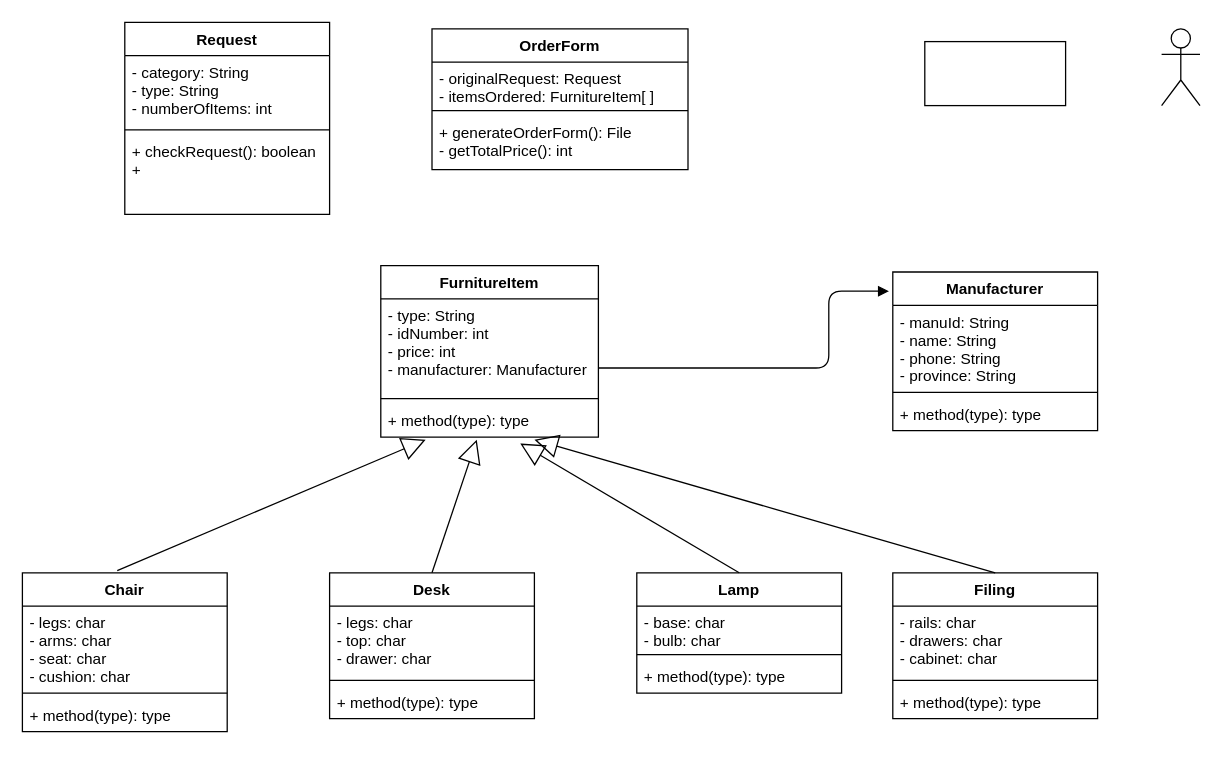
Image size: 1222x758. Some labels were removed from this diagram. Each missing label, with the centre of its shape:
"Actor" goes at [1180,67].
"GUI" goes at [995,73].
